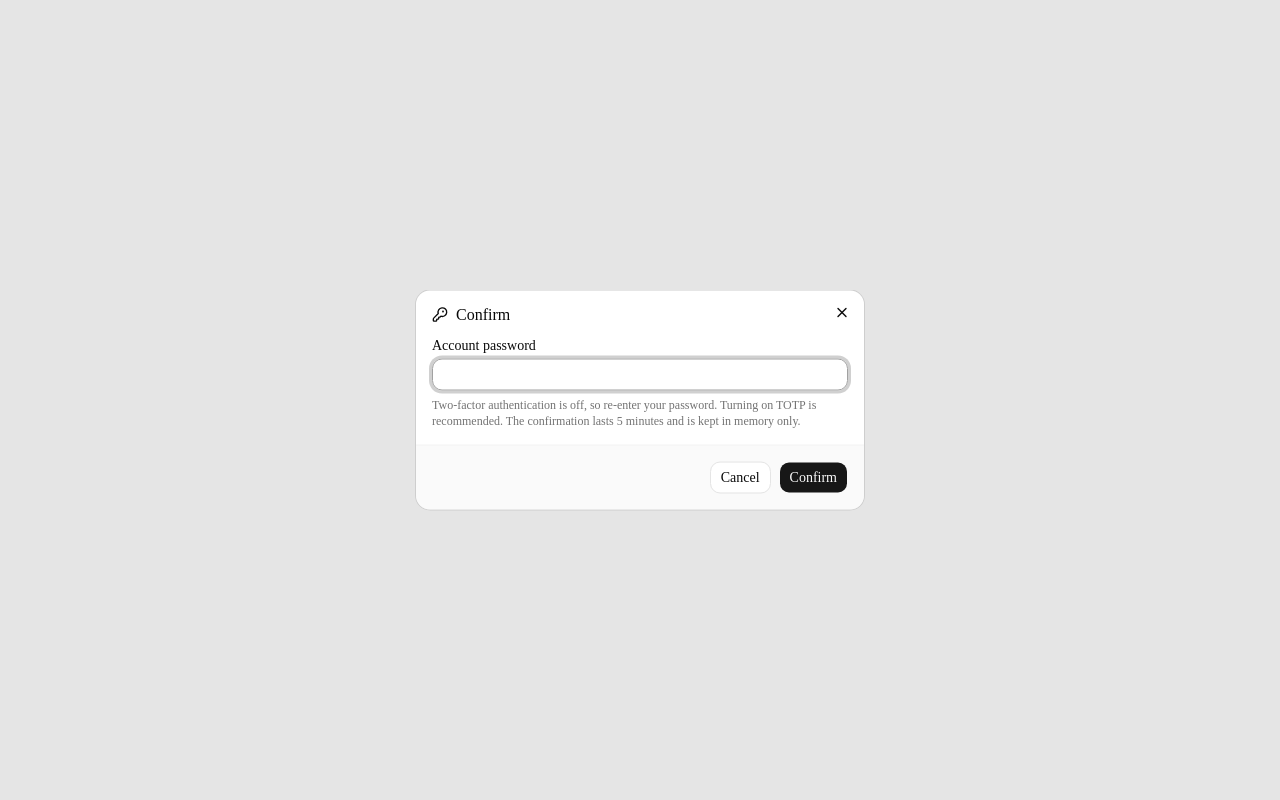
Test: StepUpDialog › shows a wrong password and keeps the dialog open
Type "nope-nope" into the password field labelled "Account password" at {"x": 640, "y": 374}, box [432,358,848,390]
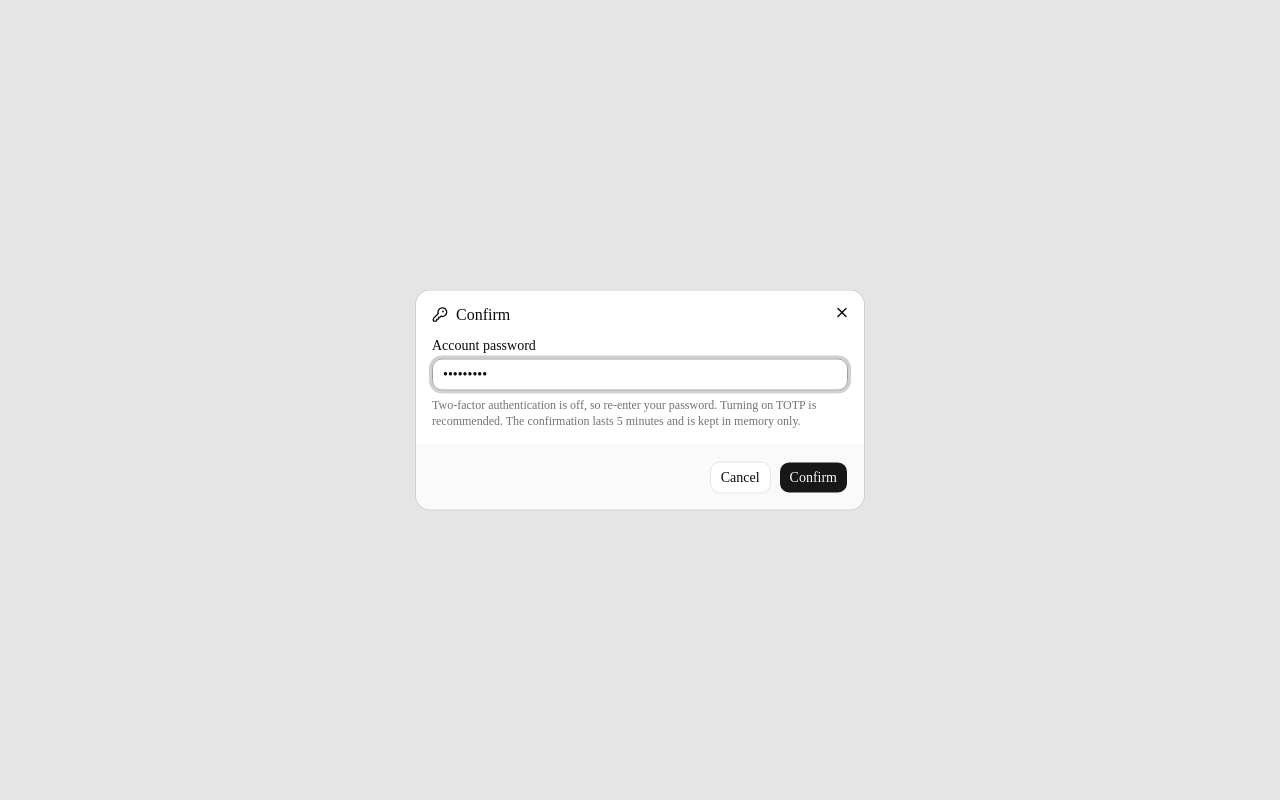
Click the button "Confirm" at {"x": 813, "y": 478}, box [778,462,848,494]
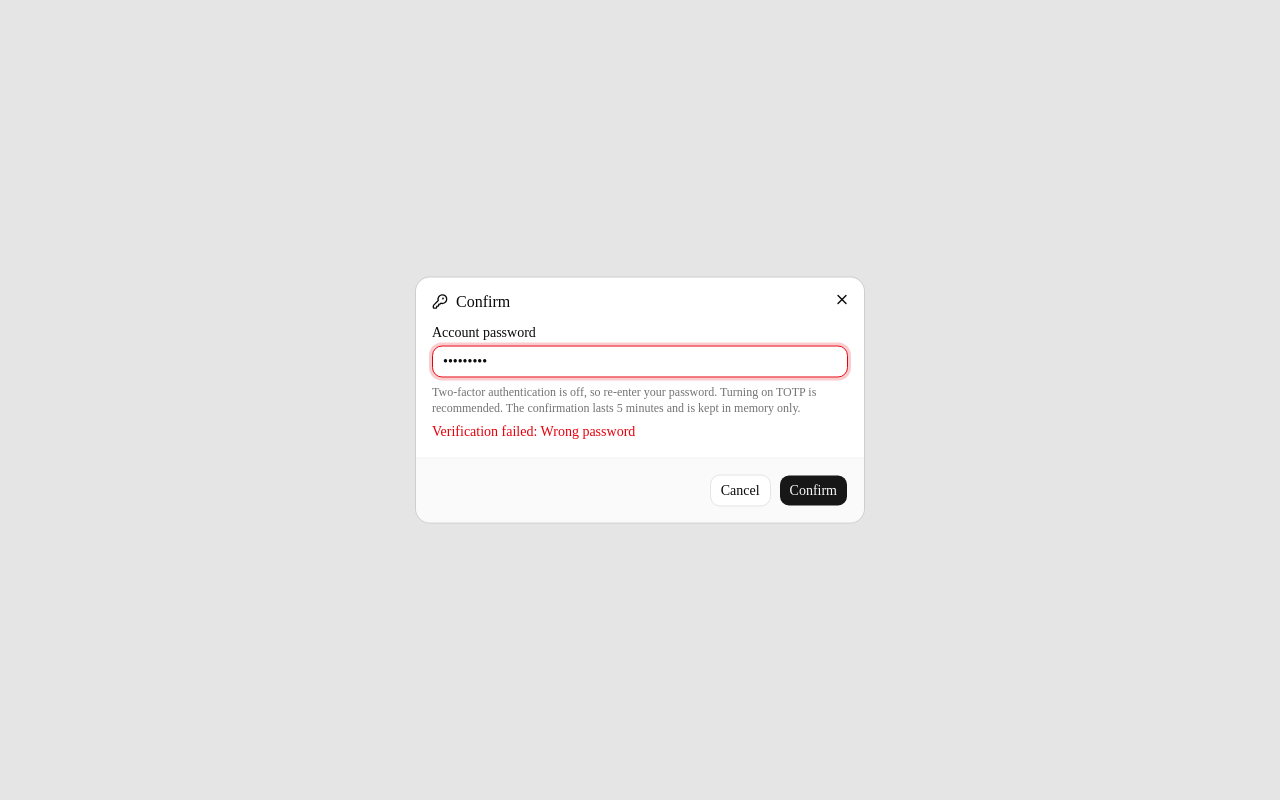
Expected: the dialog is shown, [416,278,864,522]
Now the message shows "Wrong password", box [432,424,635,438]
